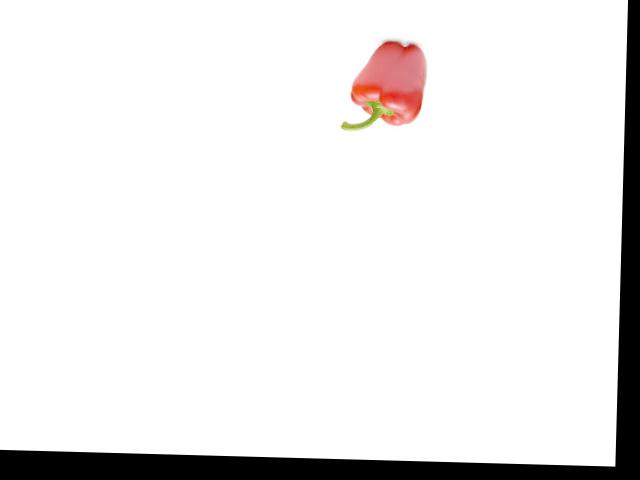bell_pepper: (338, 33, 431, 138)
